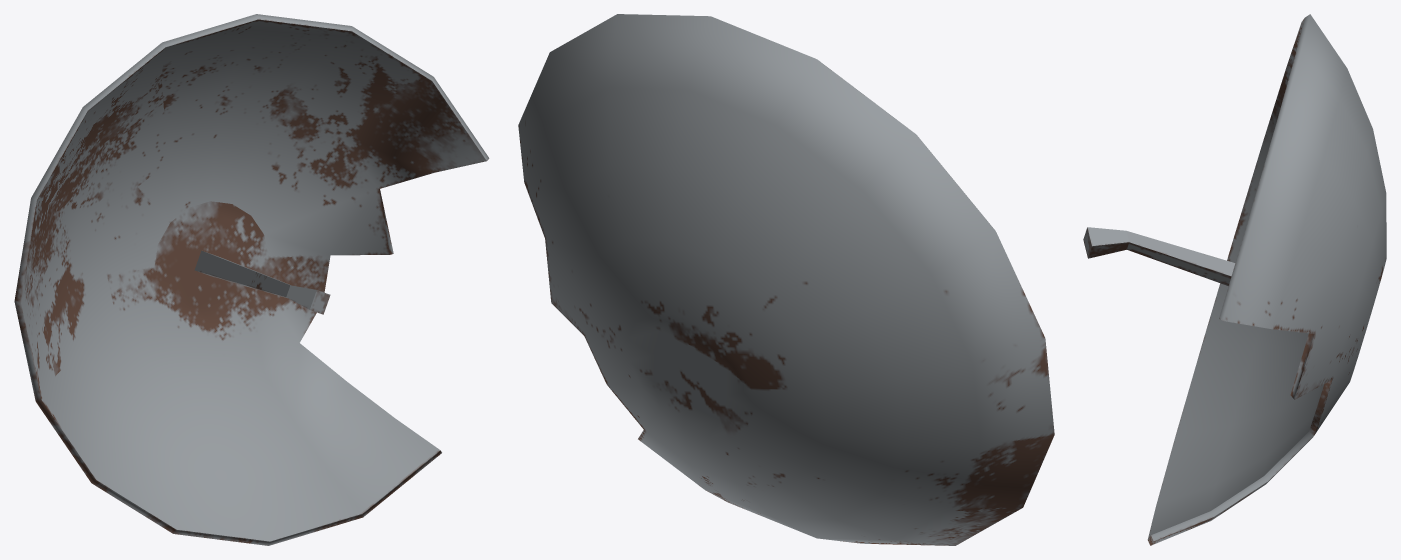
Rendered from antena.glb.
3 views of the same model, side by side, from view 1: azimuth 30°, elevation 25°; view 2: azimuth 150°, elevation 25°; view 3: azimuth 270°, elevation 25° (orthographic). The views are drawn at different scales.
Visible parts, largest first — view 1: Sphere.001; view 2: Sphere.001; view 3: Sphere.001.
Boxes of the visible parts, box(x1,y1,x2,y2) form: Sphere.001: box(14, 14, 489, 545); Sphere.001: box(518, 14, 1054, 545); Sphere.001: box(1083, 14, 1386, 545).
Bounding box in the file's own units: 1.62 × 1.6 × 0.8983.
Materials: 1 (1 with a texture image).
